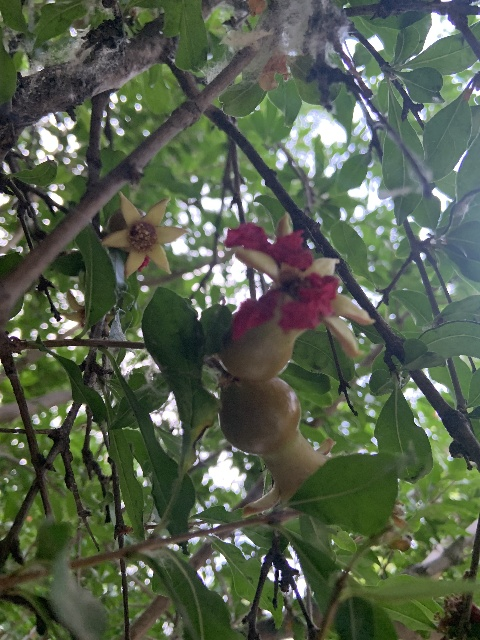early-fruit: (224, 210, 374, 381), (221, 374, 337, 516), (100, 191, 188, 280)
